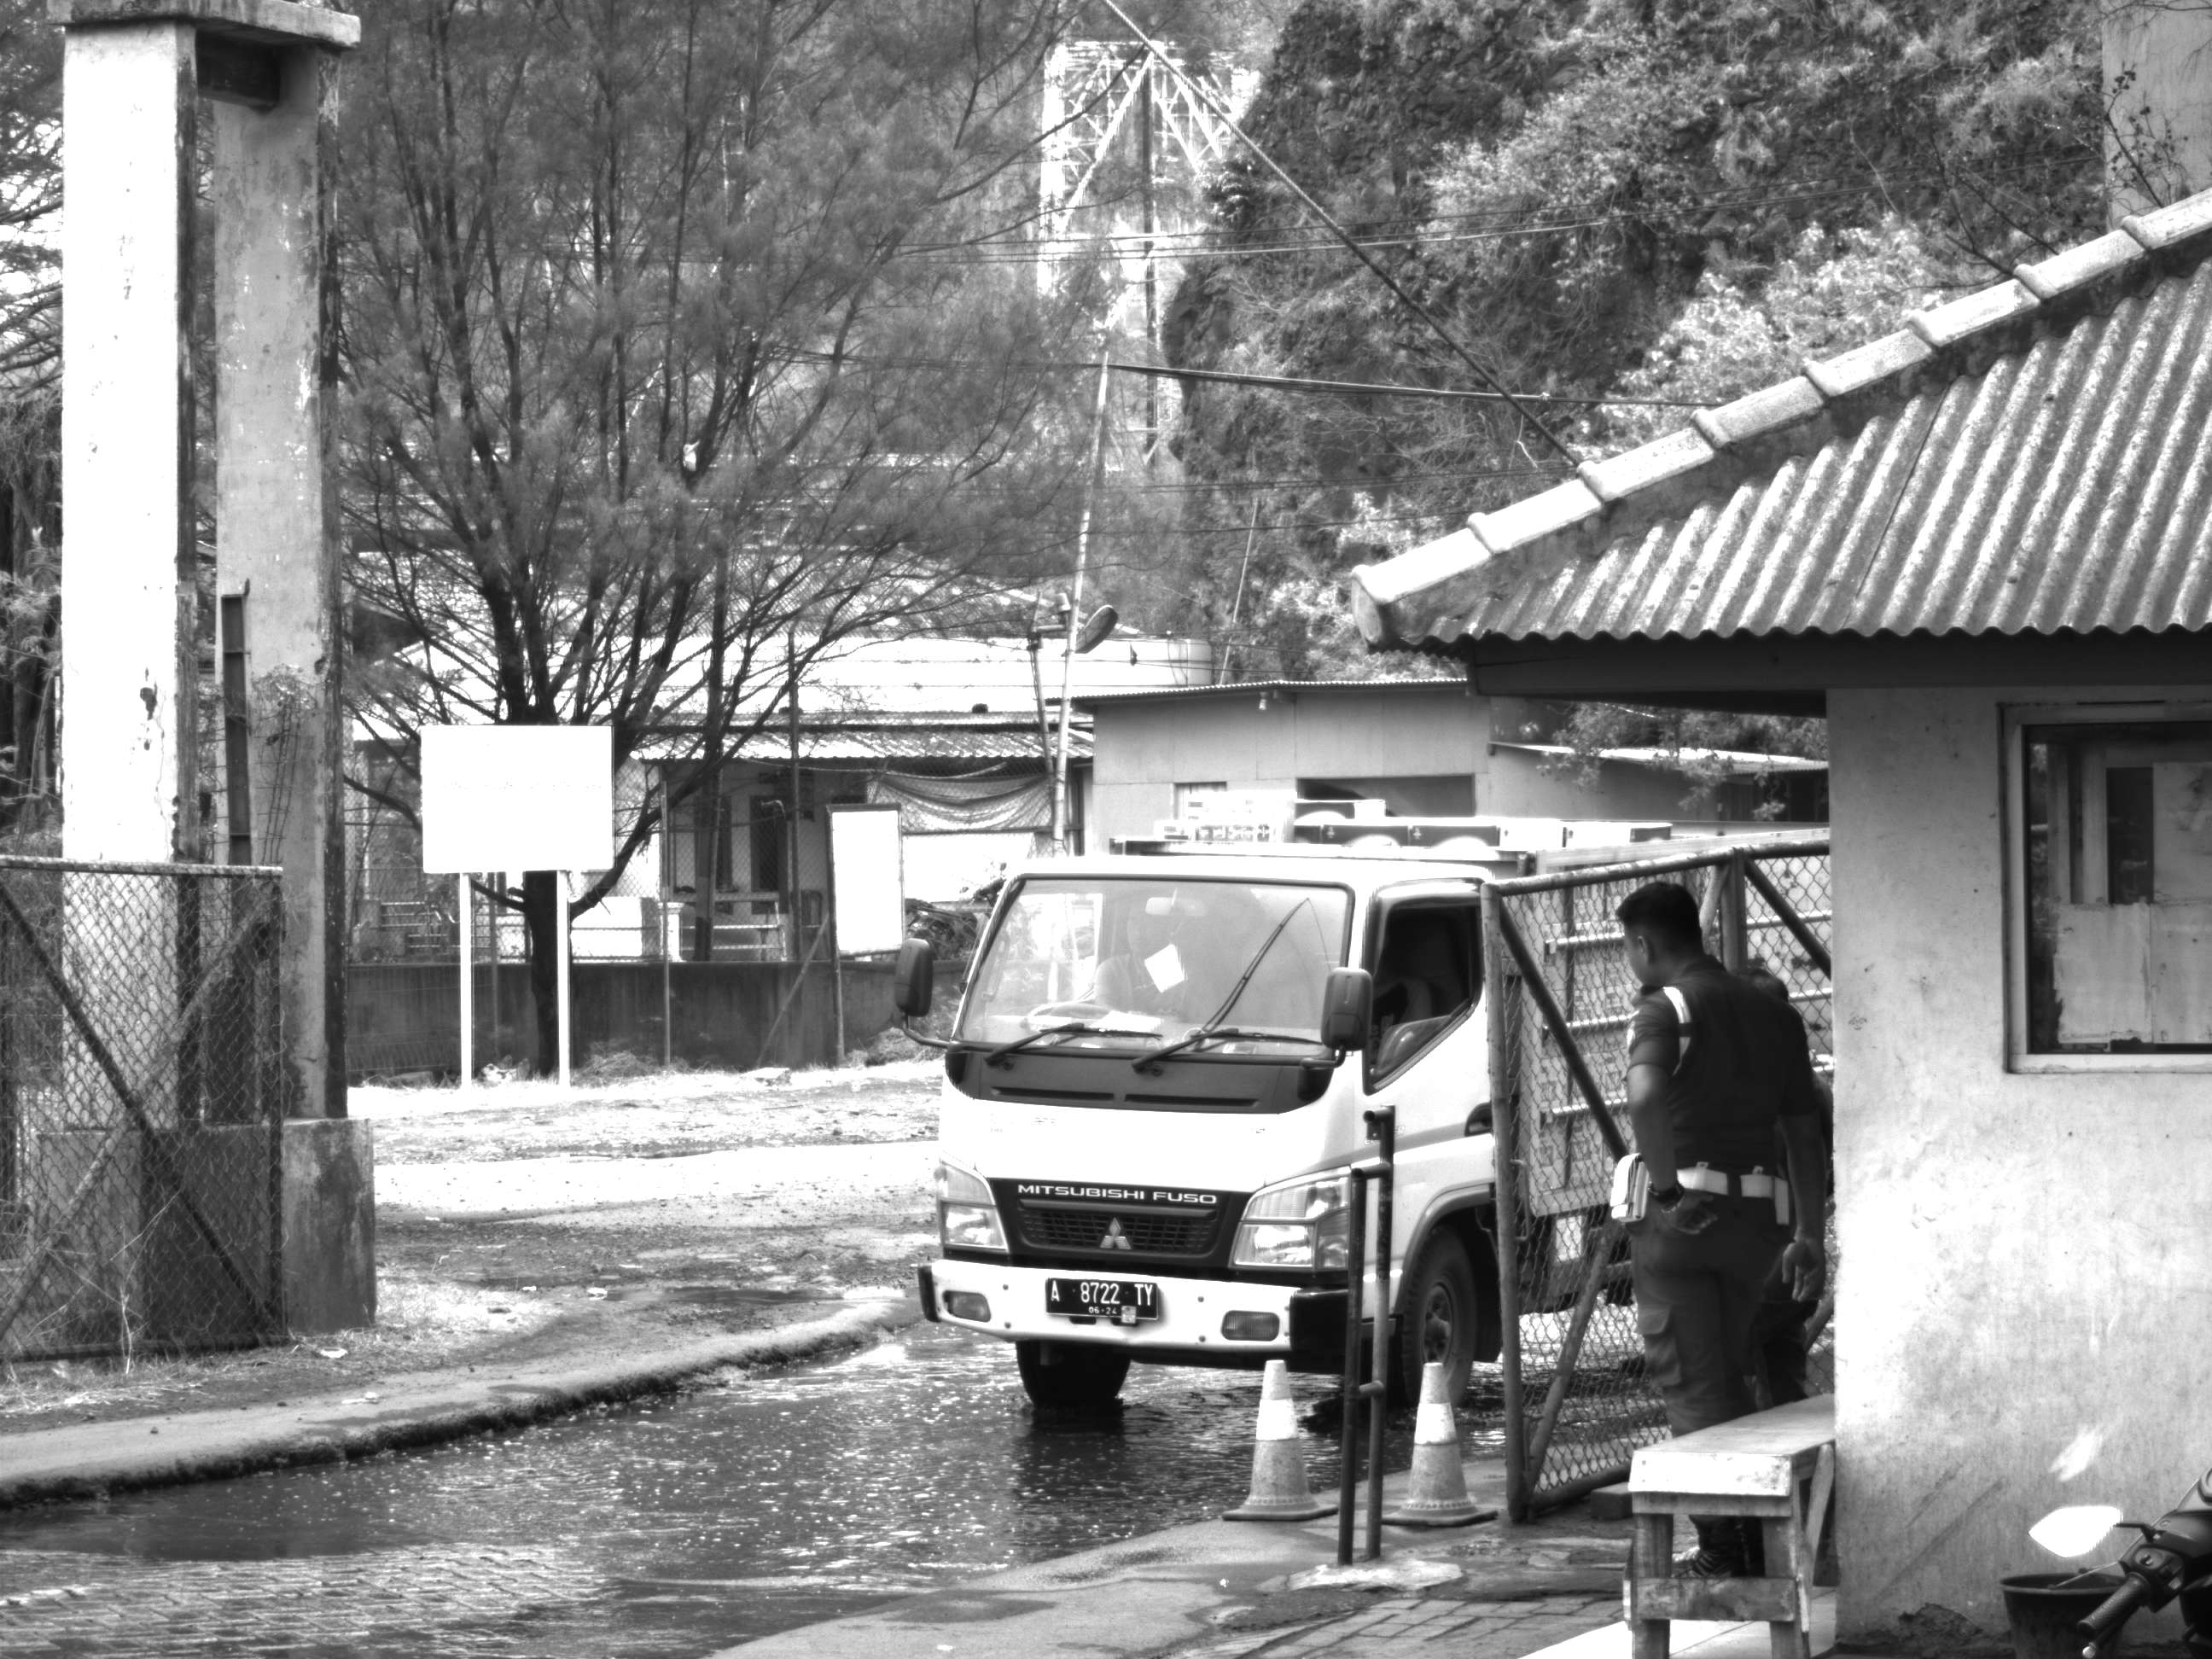day_small_front: (893, 839, 1489, 1441)
plate: (1040, 1274, 1169, 1324)
